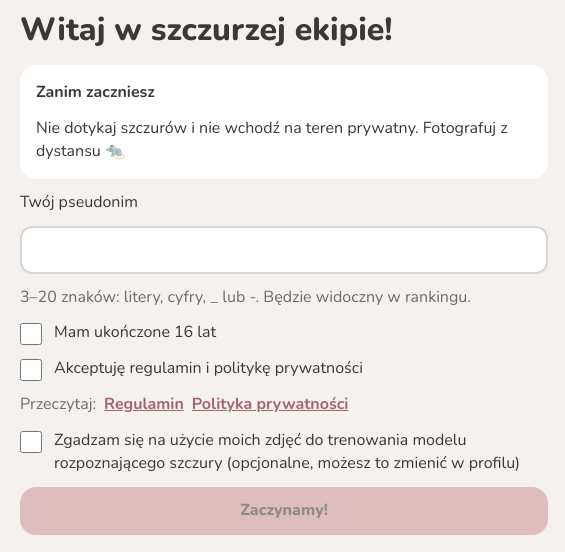
it: przycisk jest nieaktywny, dopóki formularz nie jest kompletny
The image size is (565, 552).
Expected: the button "Zaczynamy!" is disabled, [20,487,548,535]
Type "Szczurek" into the field labelled "Twój pseudonim" at (284, 250), box [20,226,548,274]
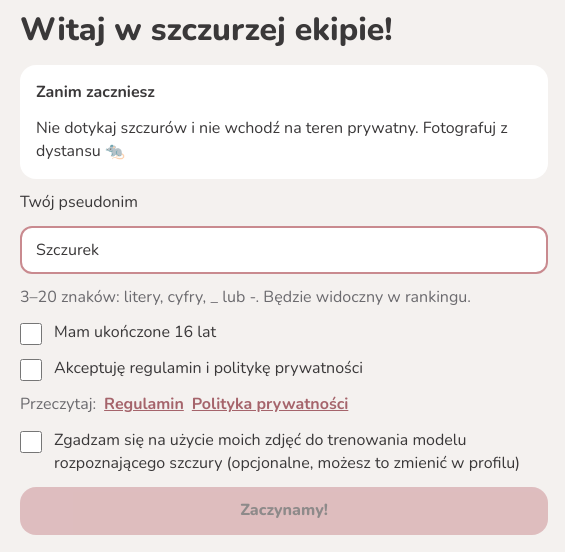
Click the checkbox labelled "Mam ukończone 16 lat" at (31, 334), box [20,323,42,345]
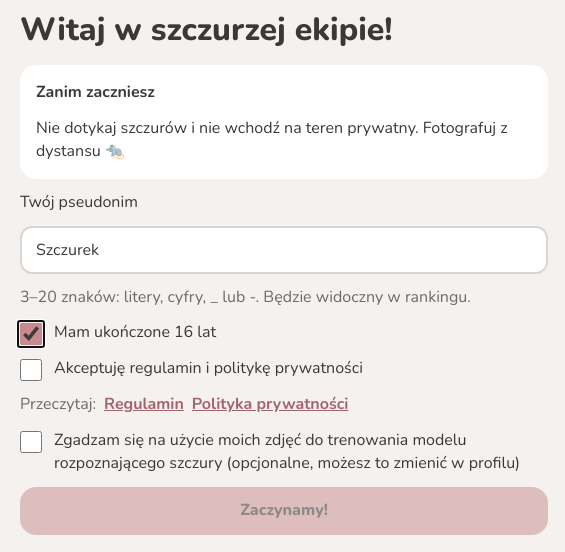
Click the checkbox labelled "Akceptuję regulamin i politykę prywatności" at (31, 370), box [20,359,42,381]
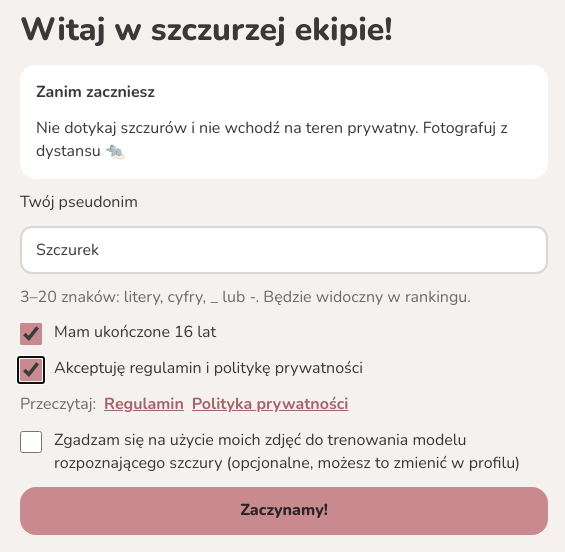
Now the button "Zaczynamy!" is enabled, box [20,487,548,535]
